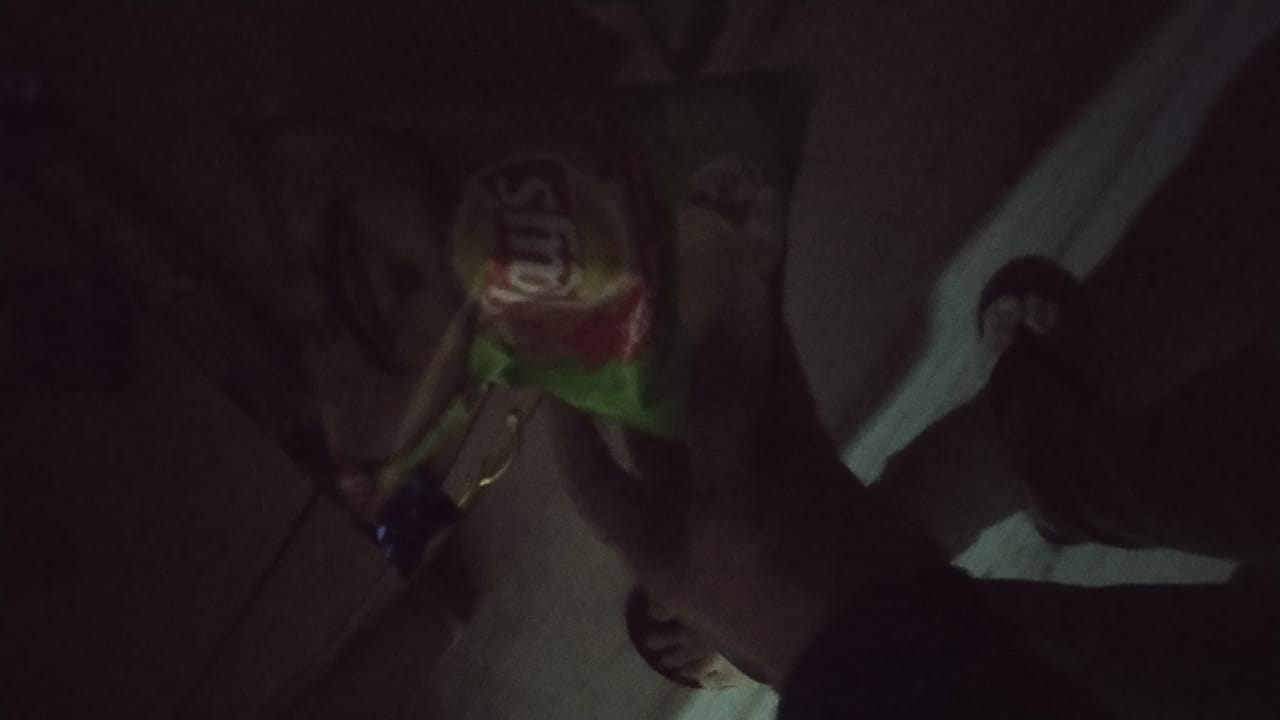lays chips: (248, 122, 790, 436)
